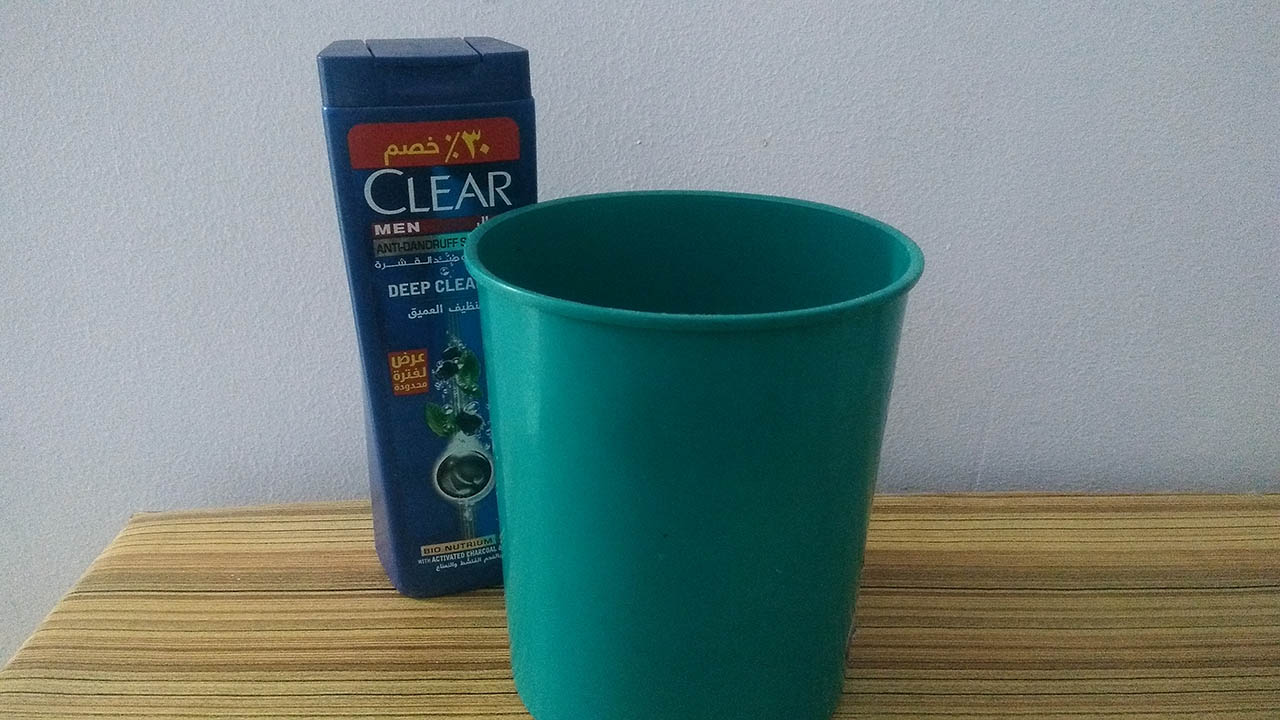Shampoo-Clear 4.7$: (314, 32, 540, 597)
